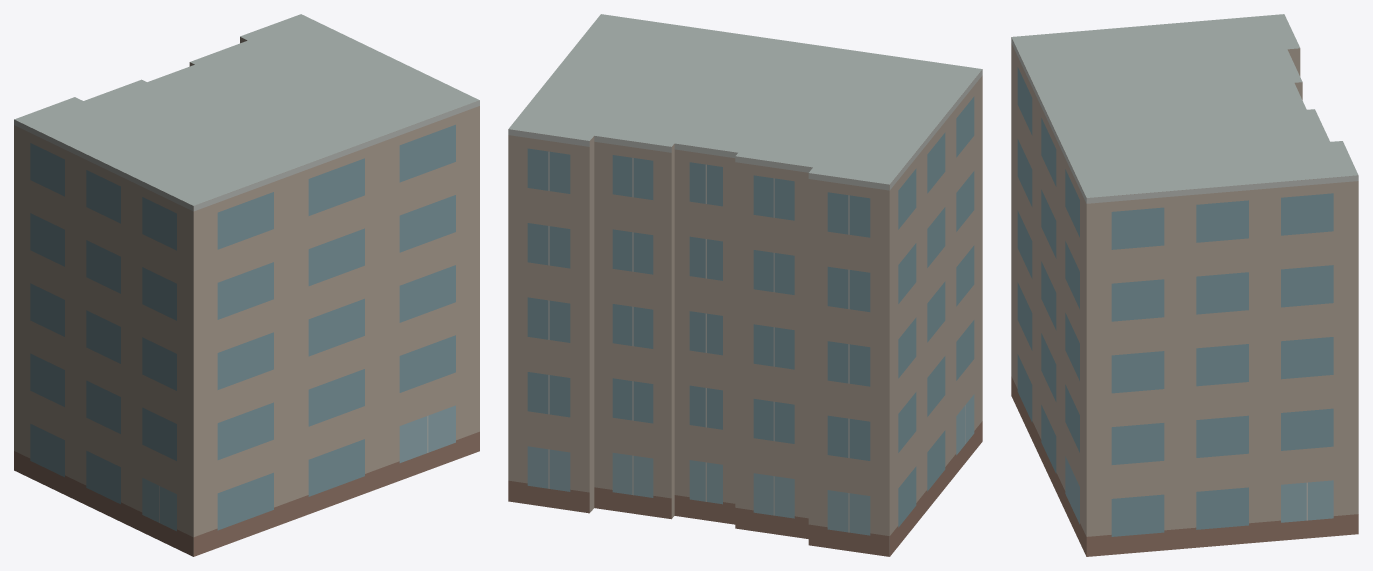
The model's file is survey-upis-32930130.glb.
The picture shows the model from 3 angles, left to right: view 1: azimuth 30°, elevation 25°; view 2: azimuth 150°, elevation 25°; view 3: azimuth 270°, elevation 25°; orthographic projection. The views are drawn at different scales.
Parts seen in each view (by area): view 1: survey-upis-32930130.tmp; view 2: survey-upis-32930130.tmp; view 3: survey-upis-32930130.tmp.
Part boxes in pixels (box(x1,y1,x2,y2)): survey-upis-32930130.tmp: box(14, 14, 479, 556); survey-upis-32930130.tmp: box(508, 14, 982, 556); survey-upis-32930130.tmp: box(1011, 14, 1358, 556).
Size of the model in its own units: 16.79 by 15.25 by 13.38.
